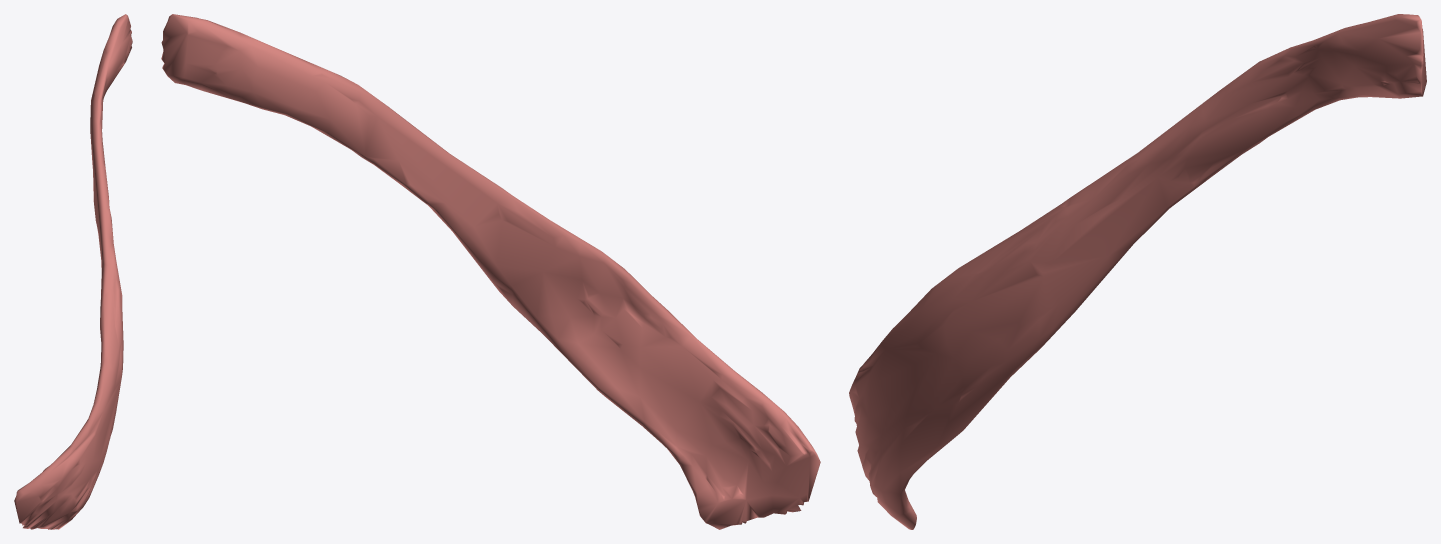
3 renders of one model, left to right at view 1: azimuth 30°, elevation 25°; view 2: azimuth 150°, elevation 25°; view 3: azimuth 270°, elevation 25°, orthographic. The views are drawn at different scales.
Visible parts, largest first — view 1: ZA_2b3e1cd7bf55f6d1; view 2: ZA_2b3e1cd7bf55f6d1; view 3: ZA_2b3e1cd7bf55f6d1.
Part boxes in pixels (<box>): ZA_2b3e1cd7bf55f6d1: <box>14,14,132,529</box>; ZA_2b3e1cd7bf55f6d1: <box>161,14,820,529</box>; ZA_2b3e1cd7bf55f6d1: <box>849,14,1426,529</box>.
Bounding box in the file's own units: 0.1321 × 0.1769 × 0.133.
